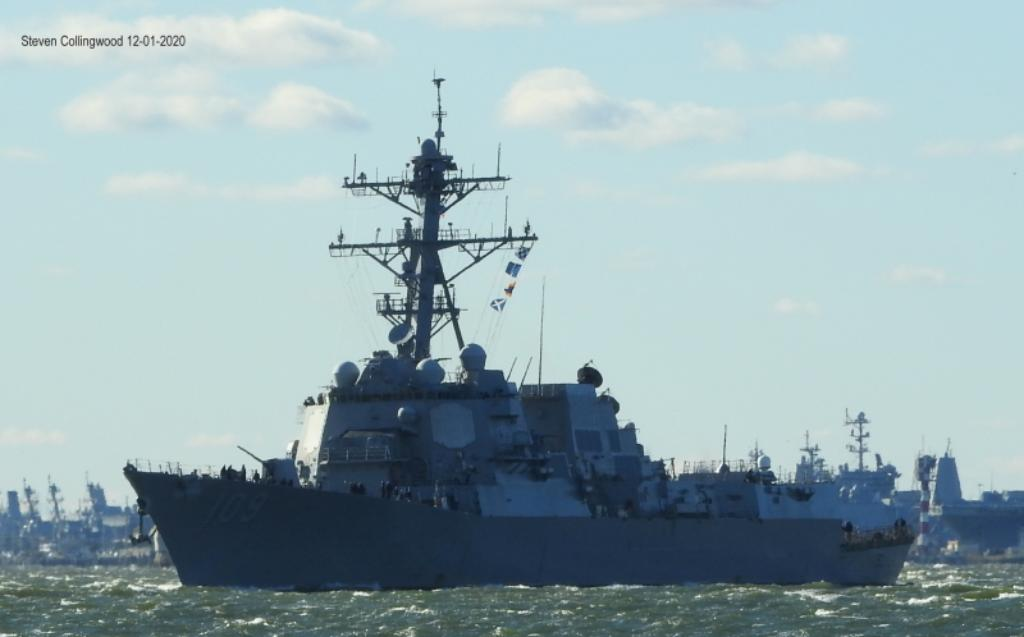Warship: (122, 61, 918, 593)
